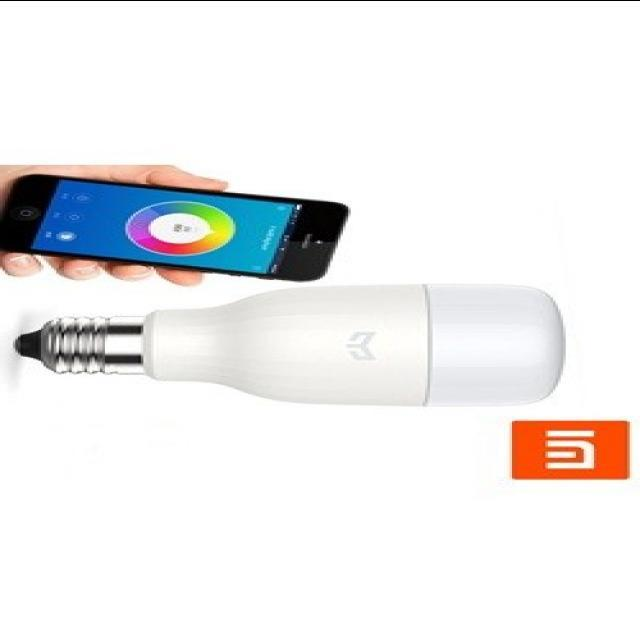light_bulb: (11, 278, 573, 414)
